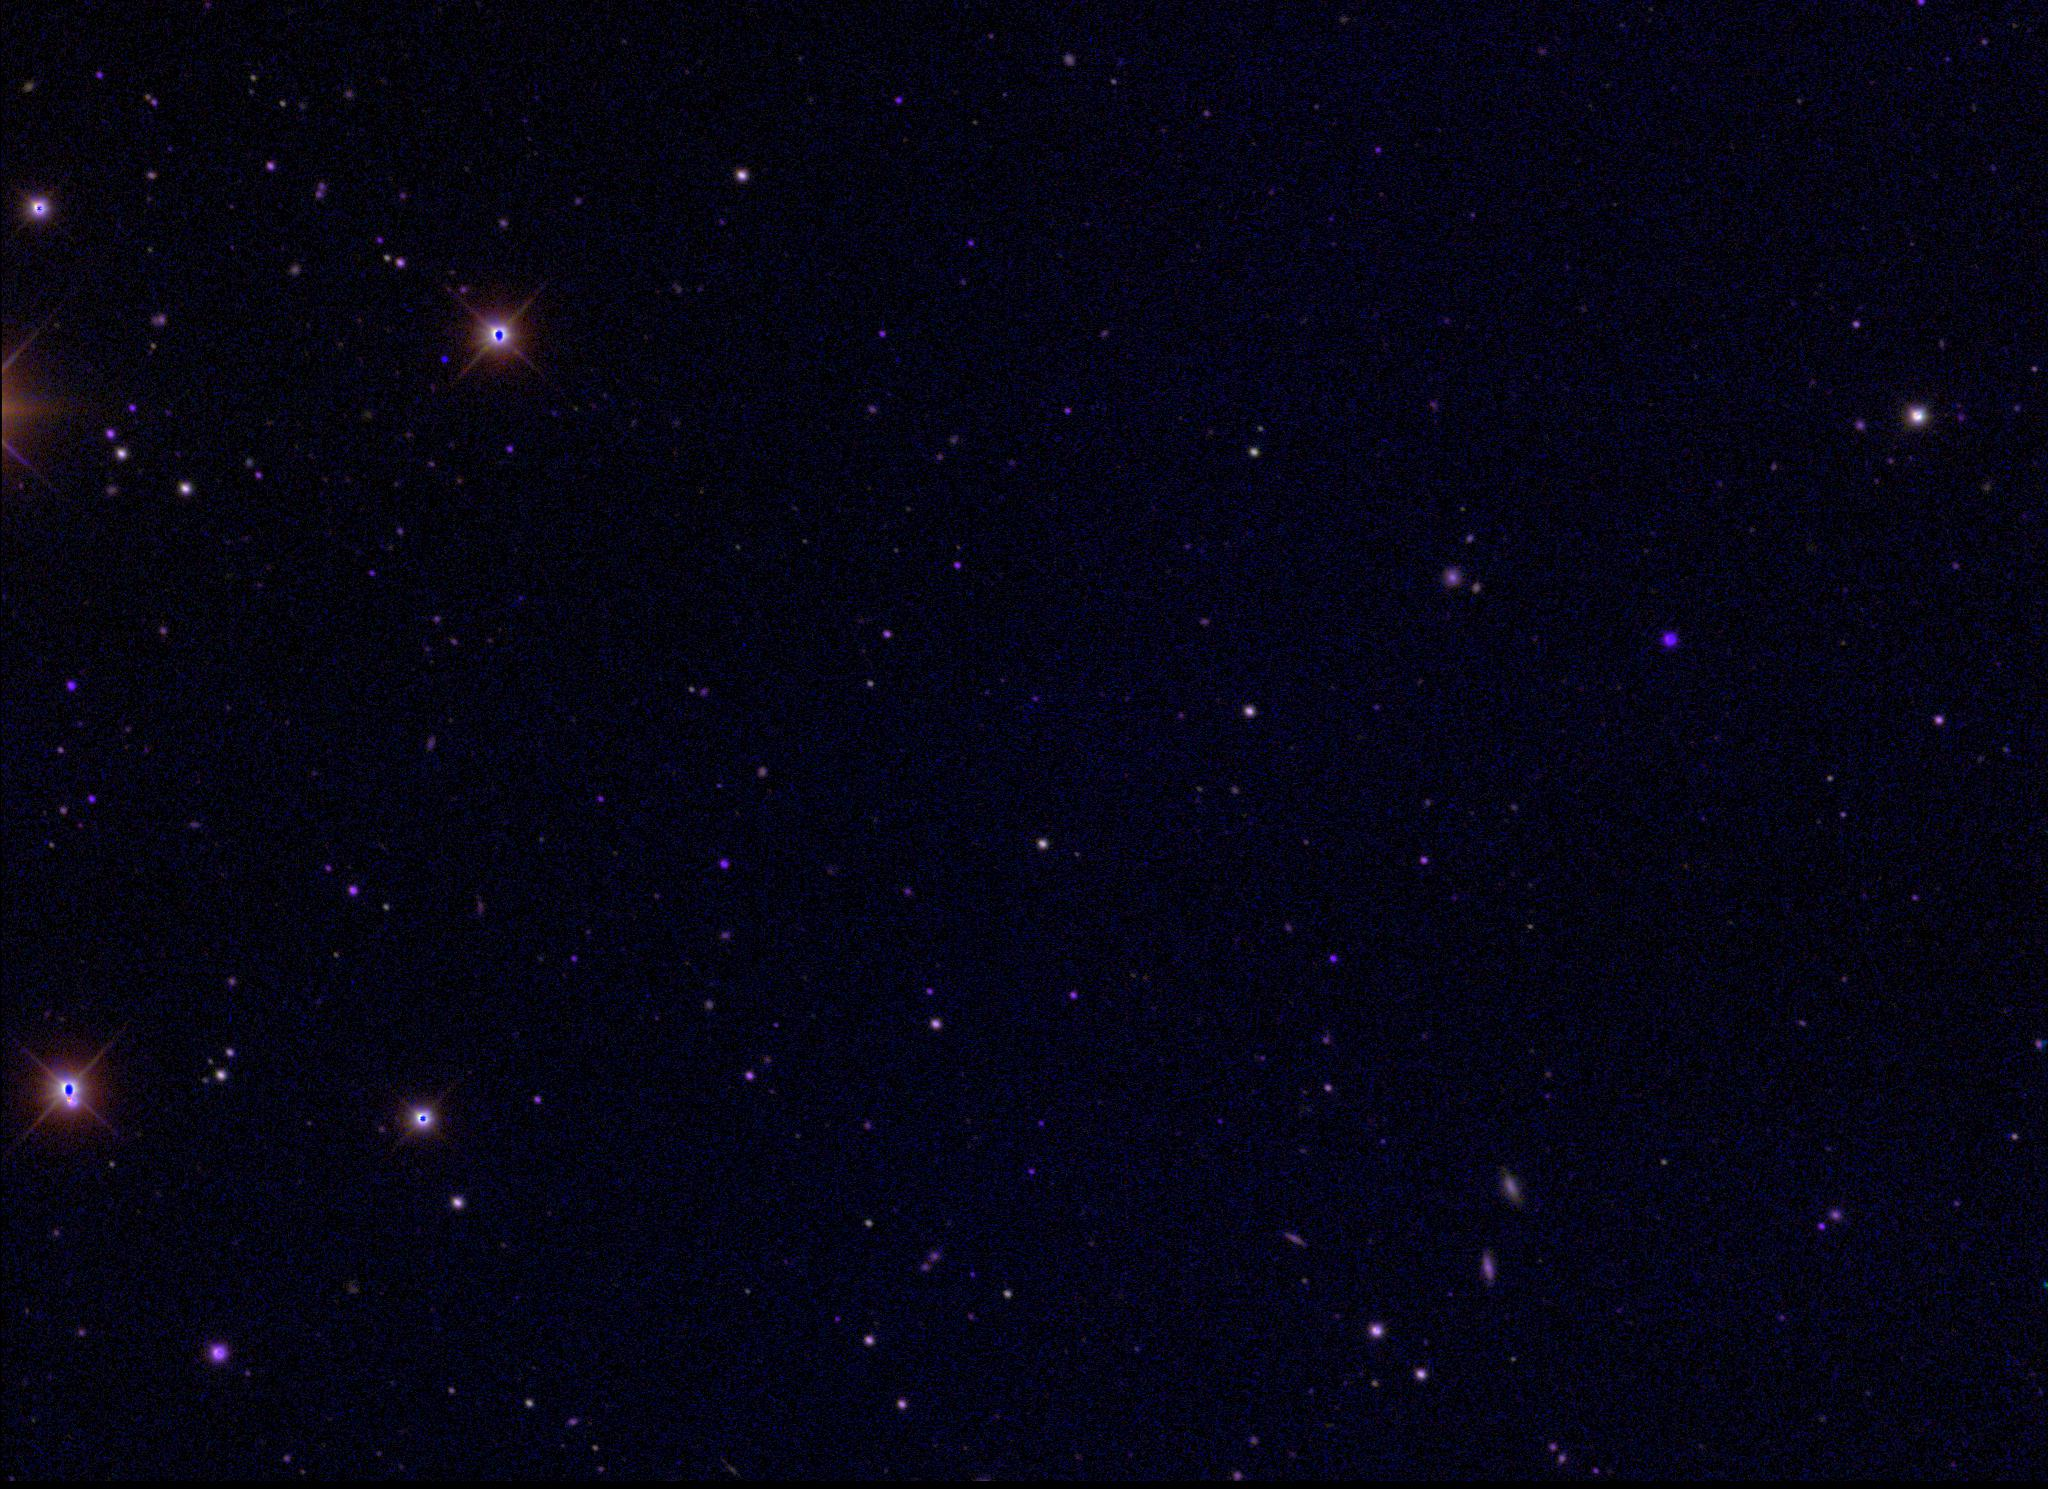L: (437, 352, 452, 366)
